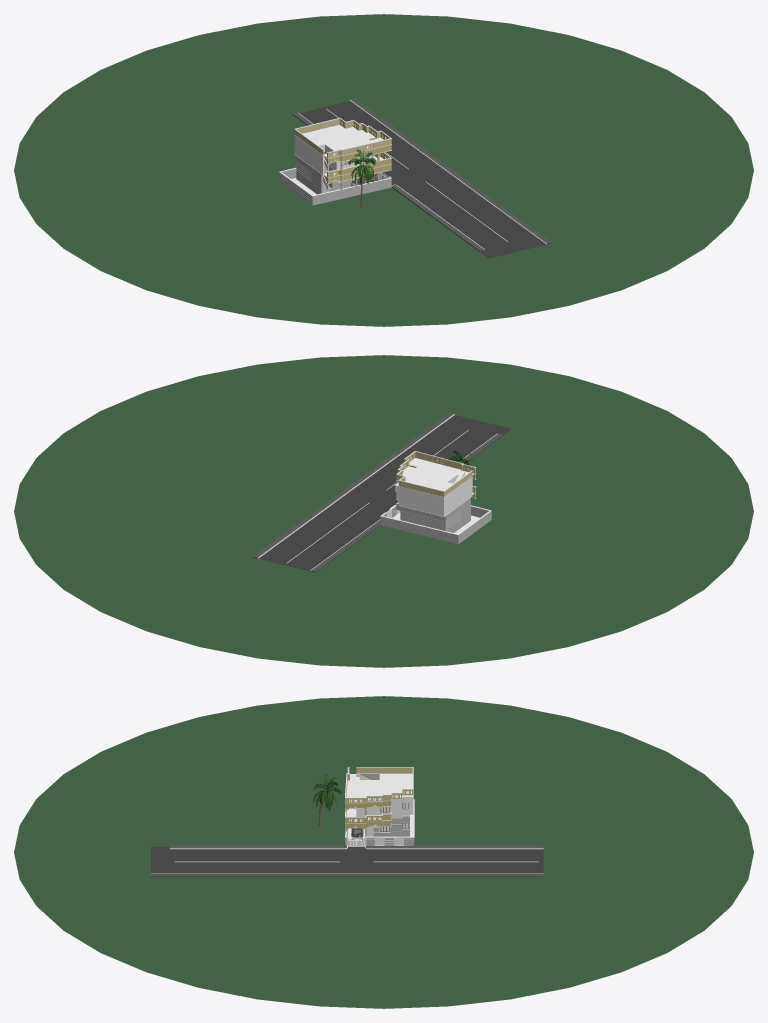
Rendered from seaside-villa.obj.
3 views of the same model, one above another, from view 1: azimuth 30°, elevation 25°; view 2: azimuth 150°, elevation 25°; view 3: azimuth 270°, elevation 25° (orthographic).
Visible parts, largest first — view 1: Color200, Color201, Color07, Color202, Color31, Color32, parapet, Color41, drops, cocos, Color203; view 2: Color200, Color201, Color31, Color202, Color07, Color32, Color41, parapet, Color203; view 3: Color200, Color201, Color202, Color07, Color31, Color203, parapet, Color09, cocos.
Part boxes in pixels (bbox=[...]): Color200: bbox=[14, 14, 753, 326]; Color201: bbox=[299, 101, 545, 258]; Color07: bbox=[279, 118, 391, 196]; Color202: bbox=[292, 98, 551, 251]; Color31: bbox=[294, 134, 373, 192]; Color32: bbox=[279, 168, 391, 205]; parapet: bbox=[294, 119, 391, 158]; Color41: bbox=[296, 156, 351, 194]; drops: bbox=[327, 130, 391, 183]; cocos: bbox=[348, 149, 376, 207]; Color203: bbox=[298, 100, 546, 249]; Color200: bbox=[14, 355, 753, 667]; Color201: bbox=[259, 415, 511, 571]; Color31: bbox=[395, 470, 472, 516]; Color202: bbox=[253, 413, 502, 572]; Color07: bbox=[380, 451, 491, 535]; Color32: bbox=[380, 506, 491, 544]; Color41: bbox=[396, 498, 470, 532]; parapet: bbox=[396, 452, 475, 496]; Color203: bbox=[258, 414, 497, 571]; Color200: bbox=[14, 696, 753, 1008]; Color201: bbox=[151, 846, 543, 873]; Color202: bbox=[151, 846, 543, 877]; Color07: bbox=[345, 767, 414, 845]; Color31: bbox=[356, 773, 413, 818]; Color203: bbox=[151, 846, 543, 873]; parapet: bbox=[345, 767, 413, 803]; Color09: bbox=[175, 861, 538, 862]; cocos: bbox=[313, 774, 341, 826].
Size of the model in its own units: 10526 by 797 by 10526.
